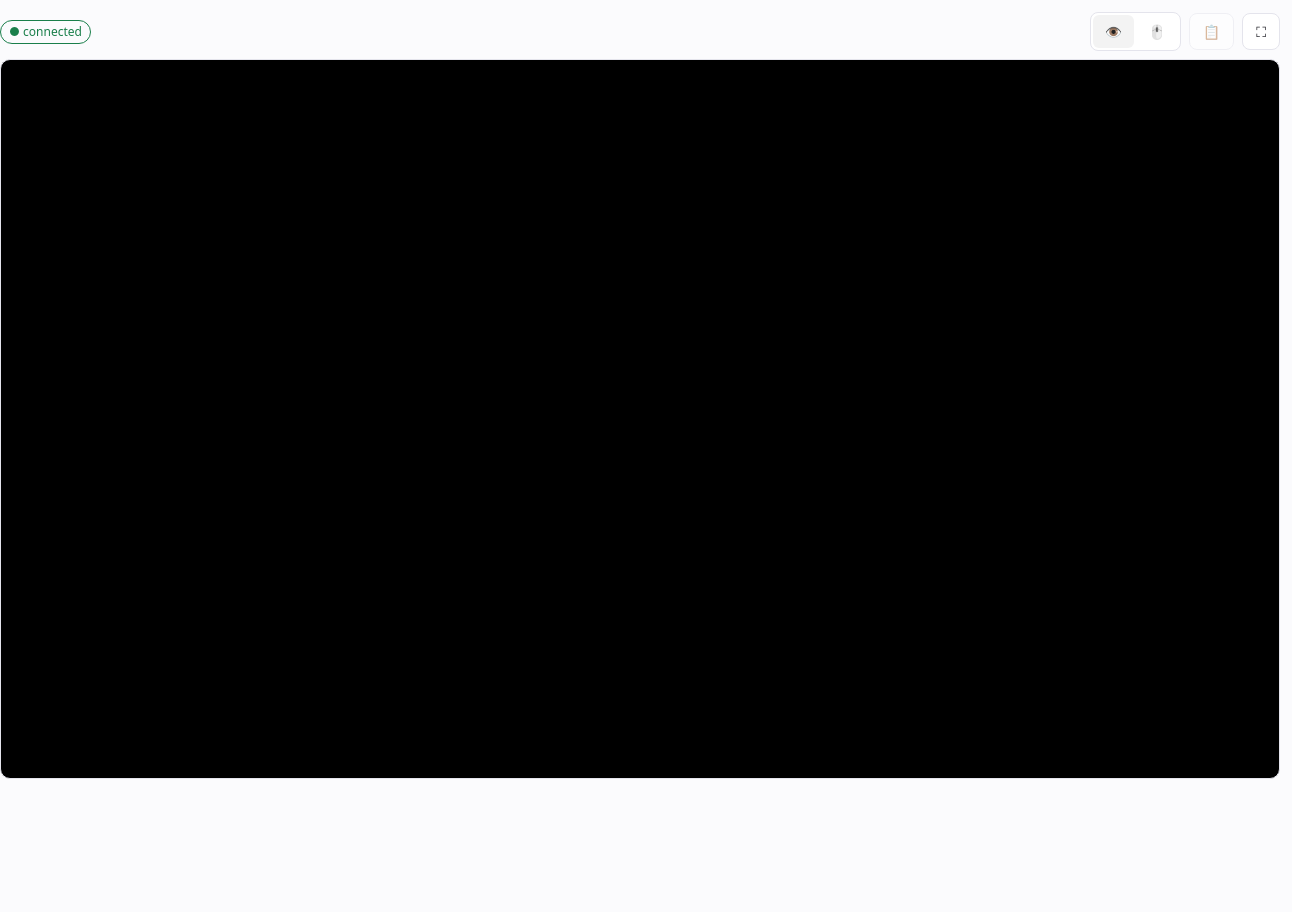
Test: leaving Control closes the popover, and it stays closed on return
Check: the text "● connected" is shown, box [0, 20, 91, 44]
Click the button named "Control": (1157, 32) [1136, 15, 1178, 48]
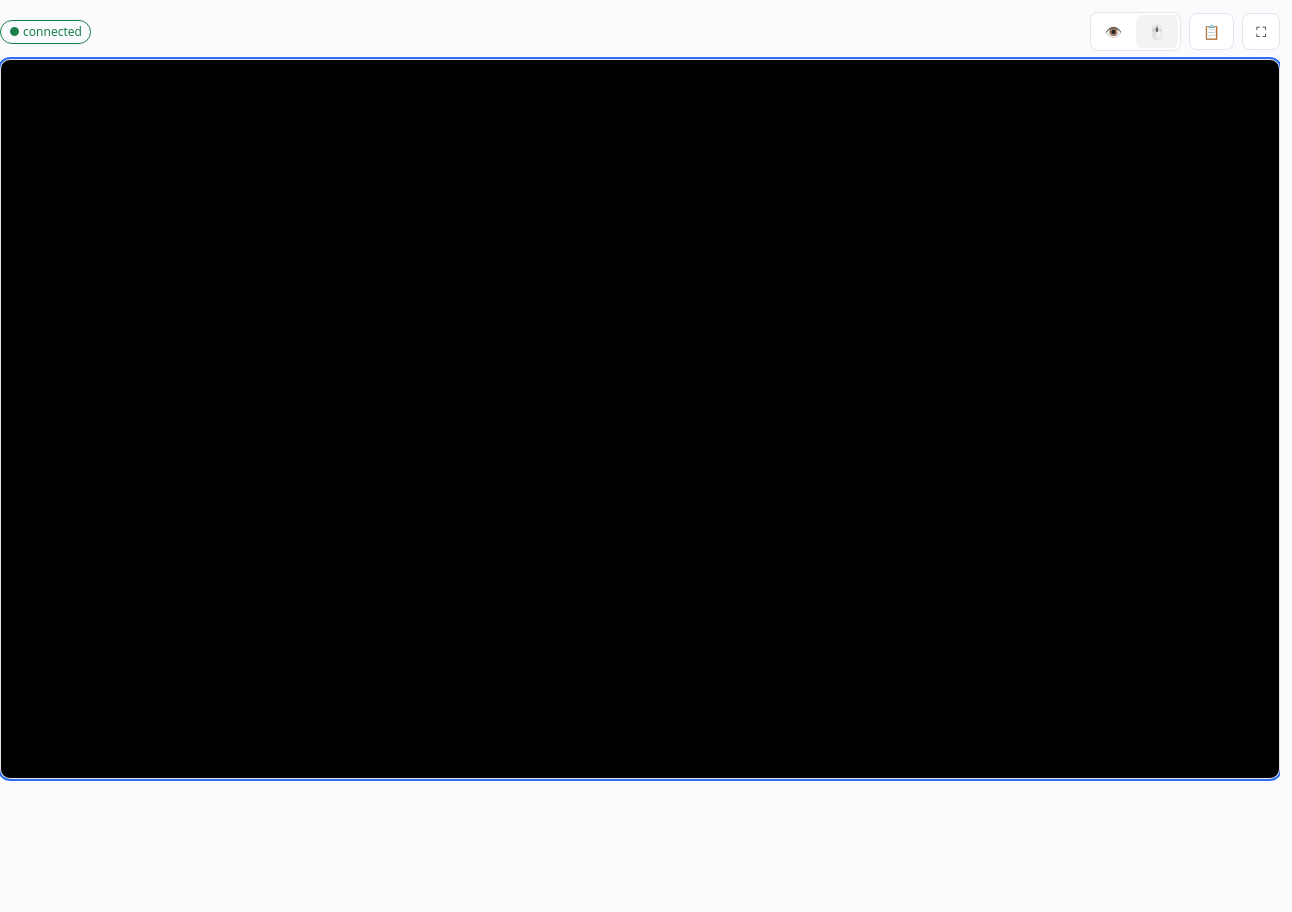
Click the button named "Paste": (1211, 32) [1189, 13, 1234, 50]
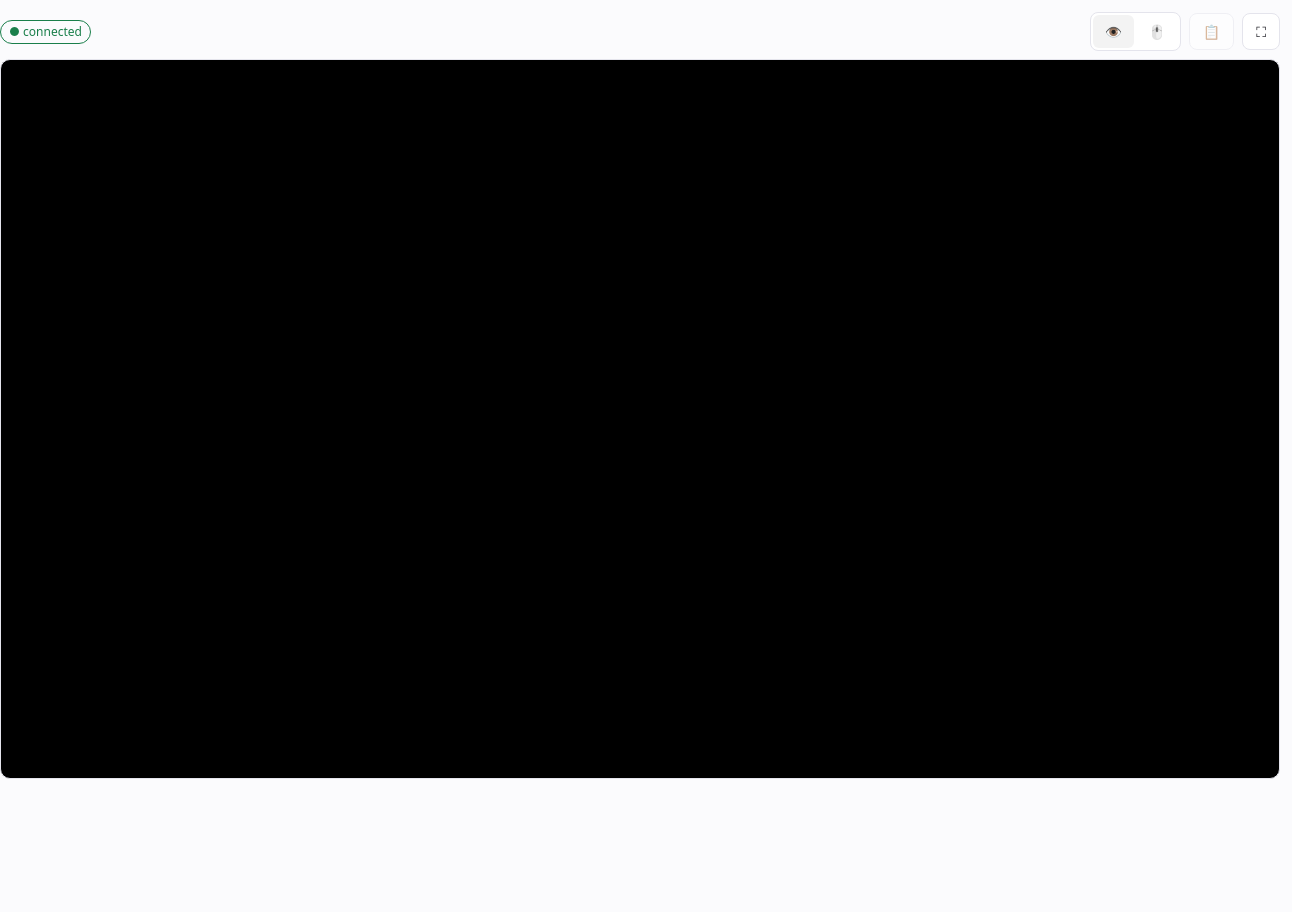
Click the button named "Control": (1157, 32) [1136, 15, 1178, 48]
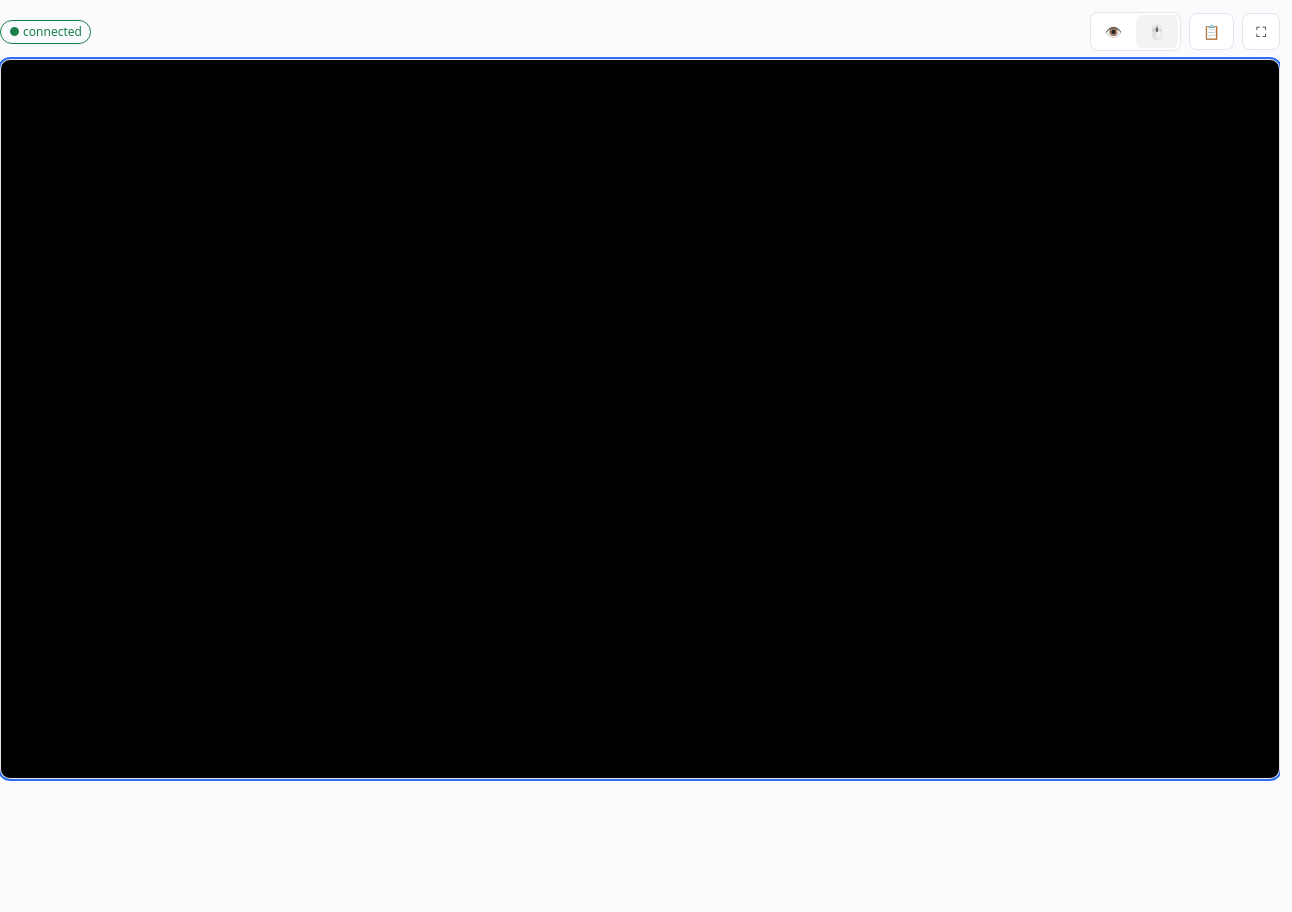
Check: the button named "Paste" is enabled, box [1189, 13, 1234, 50]
